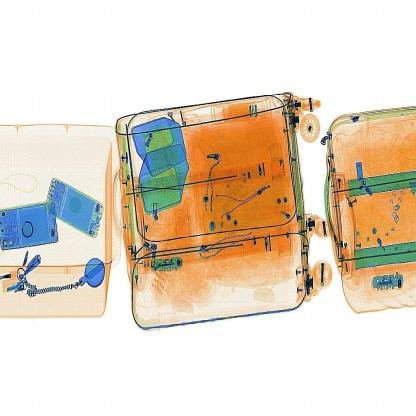pliers: (133, 170, 189, 205)
